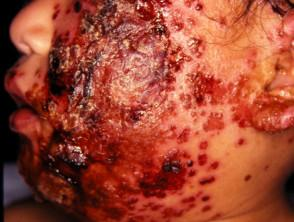Eczema: (148, 0, 192, 39), (49, 161, 96, 192), (149, 38, 199, 65), (175, 103, 218, 132), (96, 201, 151, 222), (86, 21, 118, 57), (107, 60, 145, 90), (46, 46, 68, 97), (113, 182, 151, 210), (114, 88, 146, 121), (86, 83, 115, 119), (70, 39, 103, 70), (198, 75, 229, 107), (166, 147, 197, 179), (66, 74, 90, 115), (143, 170, 177, 198), (90, 0, 137, 20), (62, 117, 105, 138), (59, 196, 98, 218), (165, 11, 194, 40), (42, 137, 81, 158), (133, 141, 167, 165), (80, 181, 112, 206), (22, 86, 50, 114), (186, 69, 209, 103), (141, 201, 183, 219), (196, 194, 225, 220), (149, 55, 179, 80), (71, 146, 103, 169), (148, 79, 175, 106), (69, 59, 99, 83), (61, 21, 92, 44), (44, 101, 76, 123), (44, 182, 77, 203), (163, 123, 185, 154), (251, 110, 278, 135), (37, 124, 72, 143), (131, 0, 153, 30), (101, 170, 129, 193), (256, 95, 291, 113), (122, 160, 152, 181), (103, 141, 127, 167), (92, 5, 123, 25), (221, 94, 246, 118), (179, 190, 201, 216), (28, 173, 53, 195), (132, 123, 154, 146), (85, 127, 110, 147), (32, 135, 46, 170), (20, 165, 47, 183), (192, 172, 218, 190), (123, 39, 147, 57), (244, 50, 262, 72), (113, 123, 135, 141), (141, 100, 161, 119), (276, 26, 294, 47), (49, 154, 70, 172), (197, 137, 213, 160), (71, 1, 91, 19), (273, 58, 290, 78), (200, 157, 221, 172), (6, 67, 21, 87), (48, 8, 65, 25), (190, 0, 209, 15), (193, 8, 212, 20), (259, 163, 277, 175), (241, 171, 253, 187), (262, 34, 277, 46), (32, 69, 45, 82), (217, 14, 227, 30), (236, 133, 244, 151), (283, 117, 294, 130), (286, 137, 294, 148)
